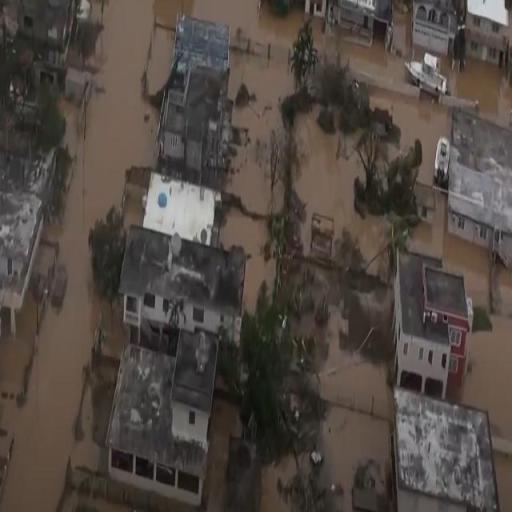flood: (0, 0, 305, 512), (295, 107, 389, 262), (409, 188, 491, 312), (318, 306, 393, 419), (369, 87, 451, 184), (320, 405, 391, 512), (462, 315, 512, 440), (219, 203, 275, 311), (440, 57, 512, 128), (203, 398, 242, 512), (0, 288, 39, 392), (342, 42, 407, 82), (71, 384, 100, 470), (259, 455, 296, 512), (58, 490, 133, 512), (494, 451, 512, 512), (33, 241, 59, 279), (395, 12, 412, 56), (304, 14, 324, 50), (499, 268, 512, 316), (368, 256, 388, 278), (345, 137, 355, 144)
house: (119, 217, 241, 368), (111, 334, 212, 496), (388, 386, 500, 512), (164, 6, 230, 188), (444, 107, 512, 283), (396, 244, 474, 396), (0, 178, 40, 306), (466, 2, 510, 73), (414, 0, 461, 58), (335, 0, 379, 41), (415, 49, 449, 102)
